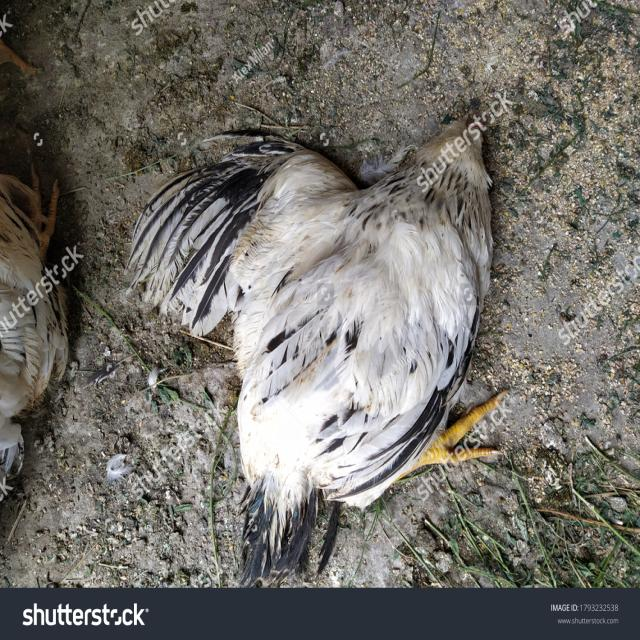Unhealthy: (149, 98, 517, 565)
